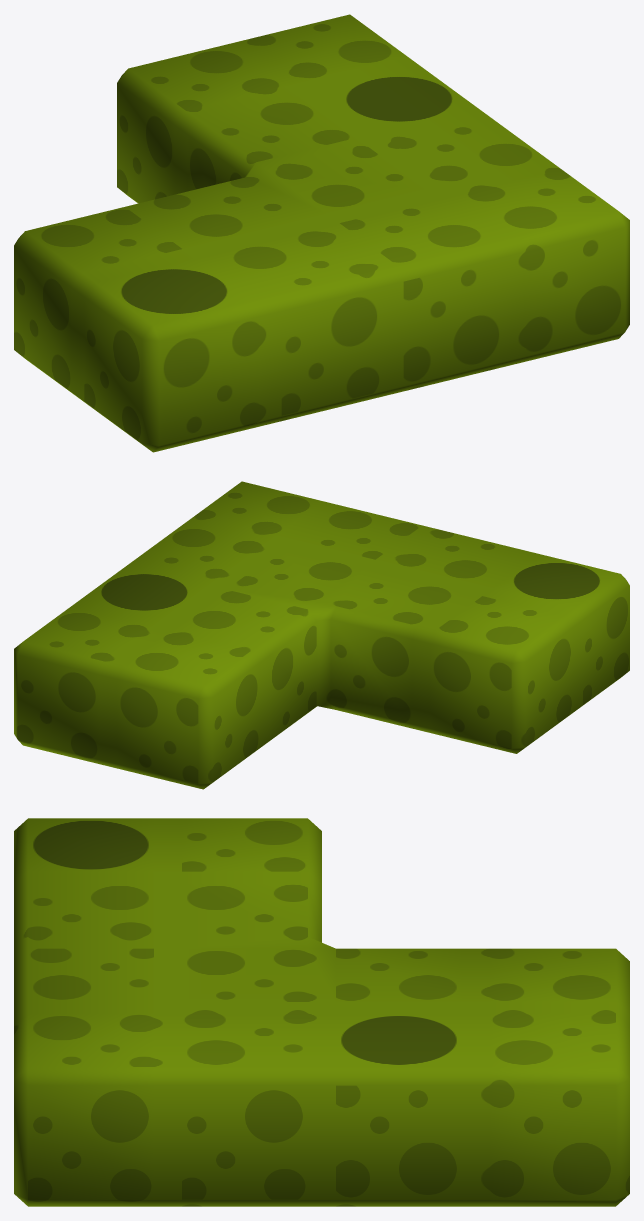
Rendered from grass-corner.obj.
The picture shows the model from 3 angles, top to bottom: view 1: azimuth 30°, elevation 25°; view 2: azimuth 150°, elevation 25°; view 3: azimuth 270°, elevation 25°; orthographic projection. The views are drawn at different scales.
Visible parts, largest first — view 1: Cube.001; view 2: Cube.001; view 3: Cube.001.
Boxes of the visible parts, <box> form: Cube.001: <box>14,14,629,452</box>; Cube.001: <box>14,481,629,789</box>; Cube.001: <box>14,818,629,1206</box>.
Size of the model in its own units: 512 by 128 by 512.
Materials: 2 (2 with a texture image).
